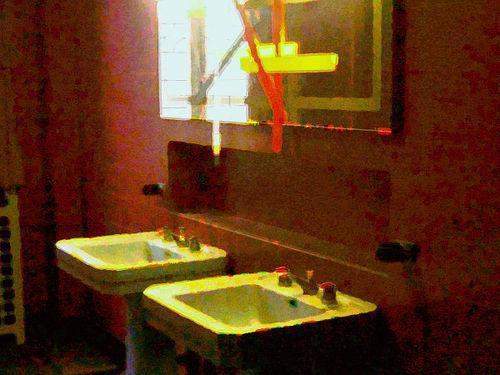Lavamanos: (148, 273, 386, 369), (51, 227, 243, 296)
